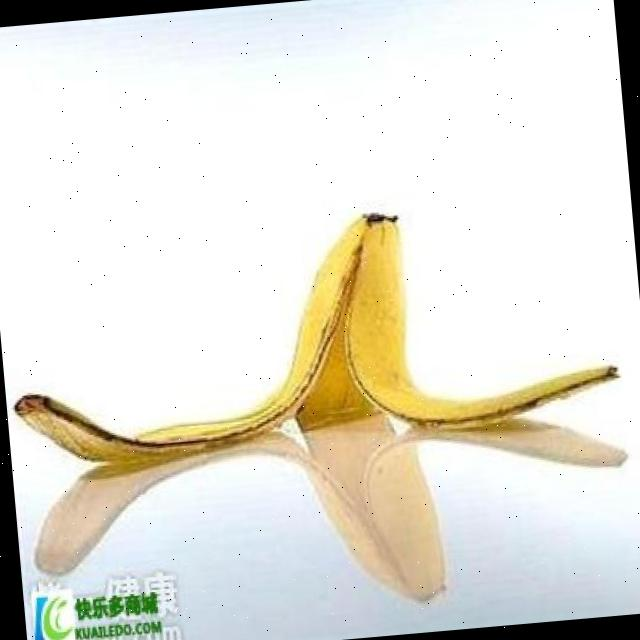banana-peel: (0, 189, 623, 474), (332, 191, 622, 437)
